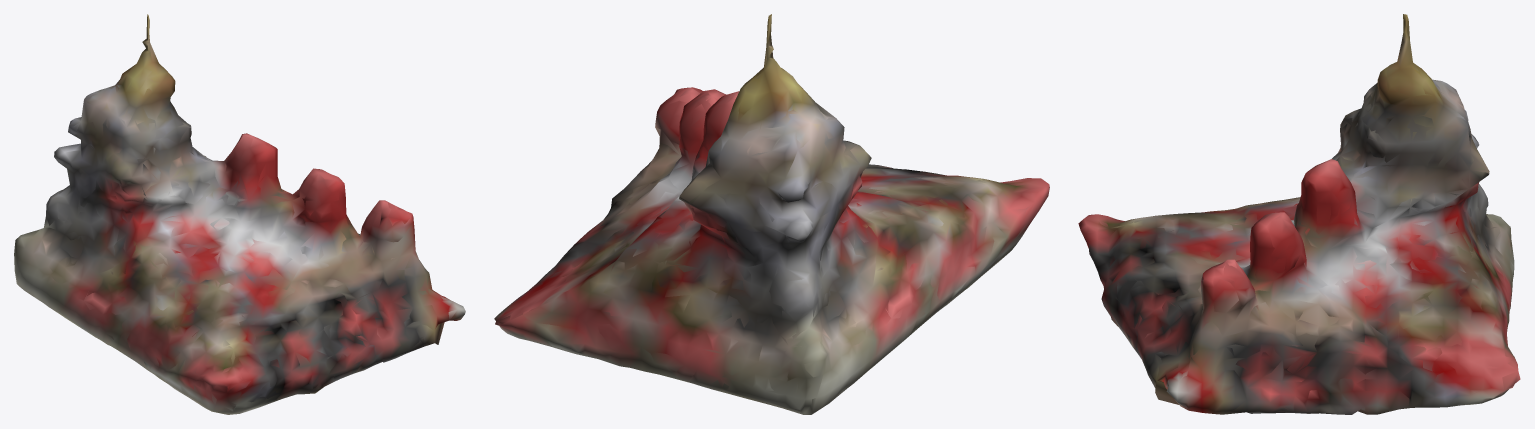
The model's file is soviet_war_factory.glb.
3 views of the same model, side by side, from view 1: azimuth 30°, elevation 25°; view 2: azimuth 150°, elevation 25°; view 3: azimuth 270°, elevation 25° (orthographic). The views are drawn at different scales.
Visible parts, largest first — view 1: soviet_war_factory; view 2: soviet_war_factory; view 3: soviet_war_factory.
Part boxes in pixels (x1,y1,x2,y2): soviet_war_factory: (14,14,465,414); soviet_war_factory: (494,14,1049,414); soviet_war_factory: (1078,14,1520,414).
Size of the model in its own units: 1.63 by 1.5 by 2.01.
